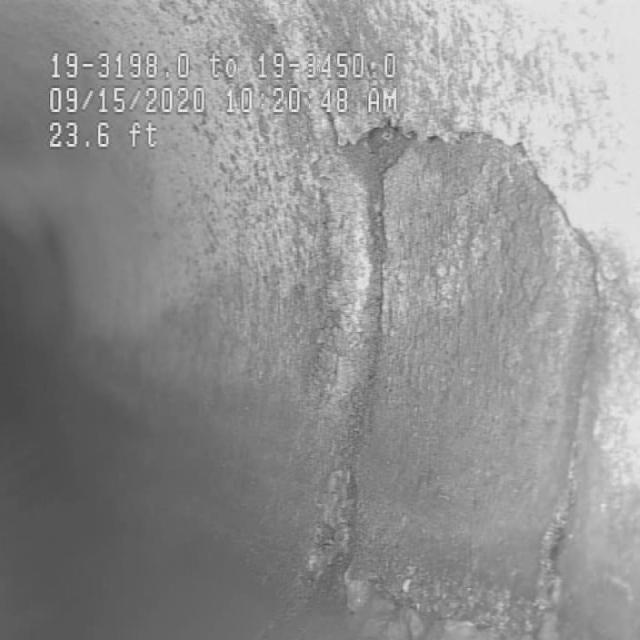Crack: (309, 120, 577, 606)
